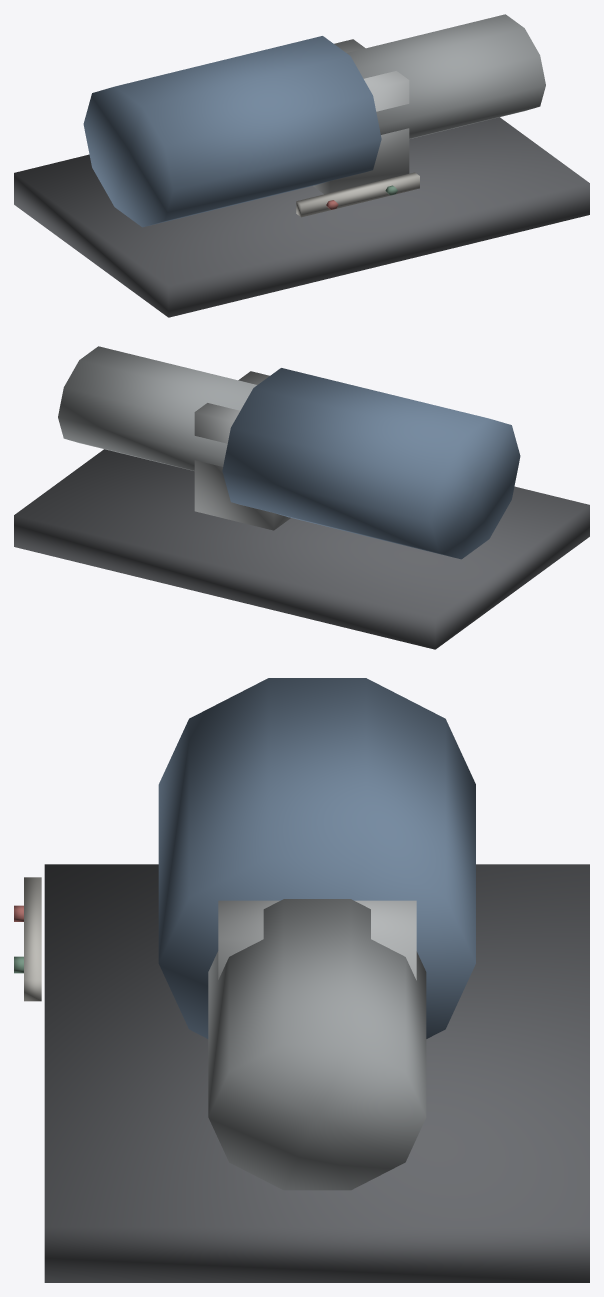
The model's file is circulation_pump__squat.glb.
3 views of the same model, one above another, from view 1: azimuth 30°, elevation 25°; view 2: azimuth 150°, elevation 25°; view 3: azimuth 270°, elevation 25° (orthographic). The views are drawn at different scales.
Parts seen in each view (by area): view 1: world; view 2: world; view 3: world.
Part boxes in pixels (x1,y1,x2,y2): world: [14, 14, 589, 317]; world: [14, 346, 589, 649]; world: [14, 678, 589, 1282].
Bounding box in the file's own units: 0.9405 × 0.3294 × 0.6275.
